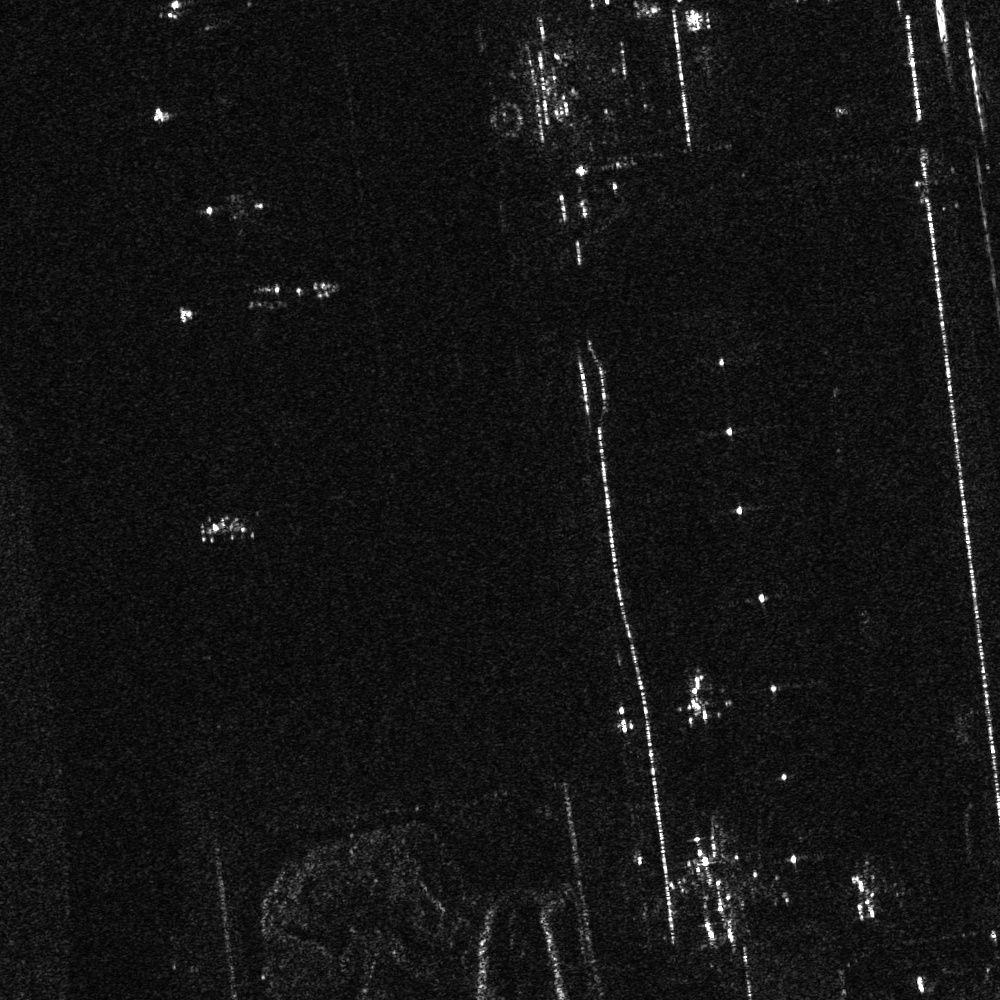A220: (833, 864, 893, 924)
other: (661, 823, 782, 950), (667, 669, 732, 730)
